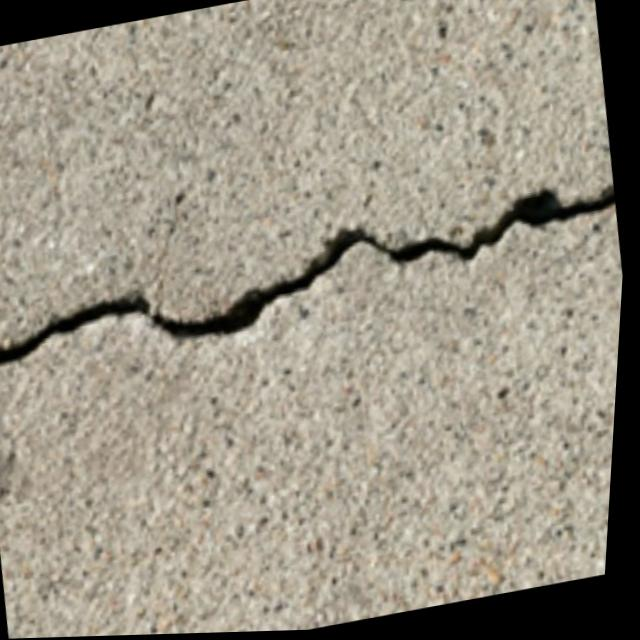Crack: (0, 142, 633, 427)
